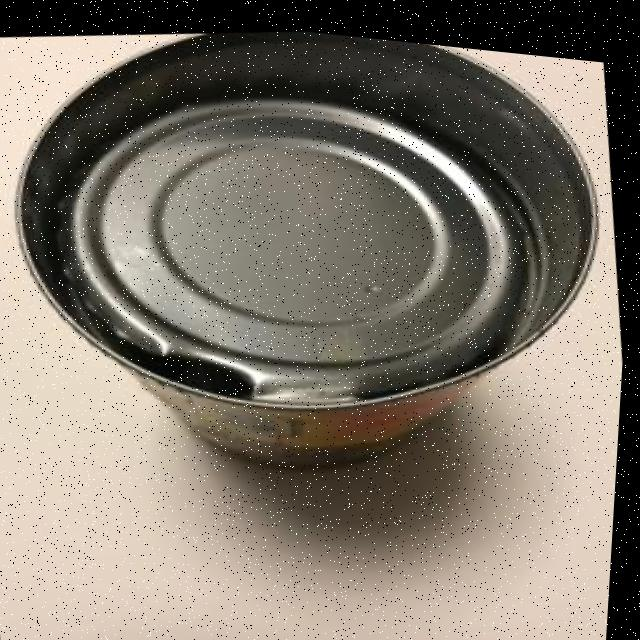metal: (0, 0, 640, 517)
